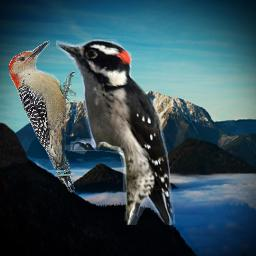Woodpecker: (56, 39, 176, 225), (9, 39, 76, 193)
